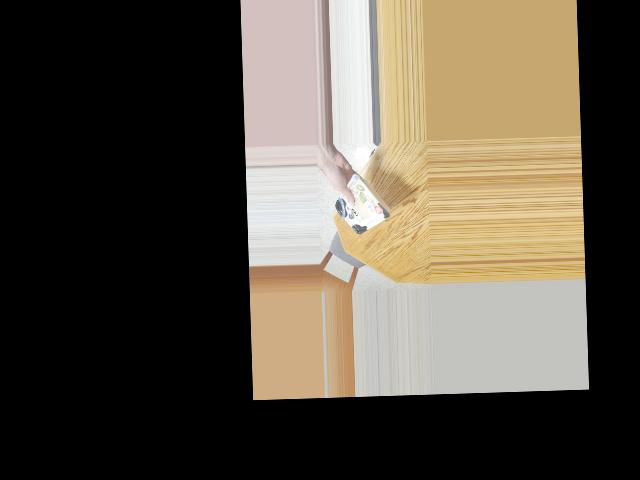cheese: (340, 180, 386, 235)
